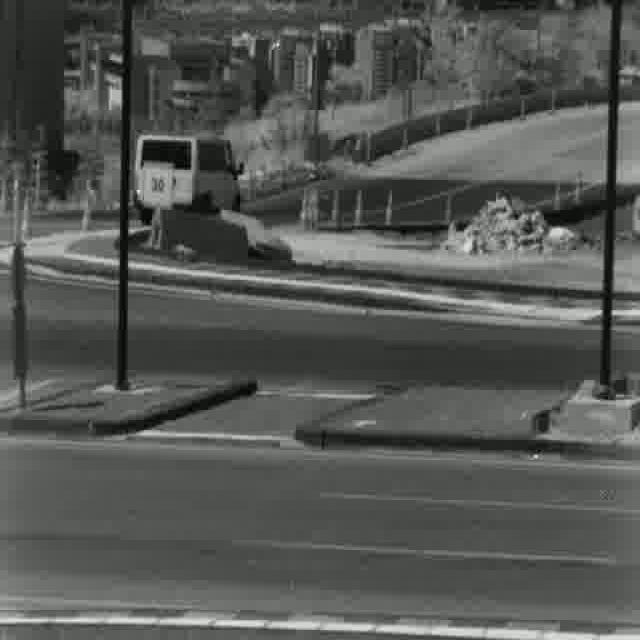Car: (136, 134, 242, 225)
